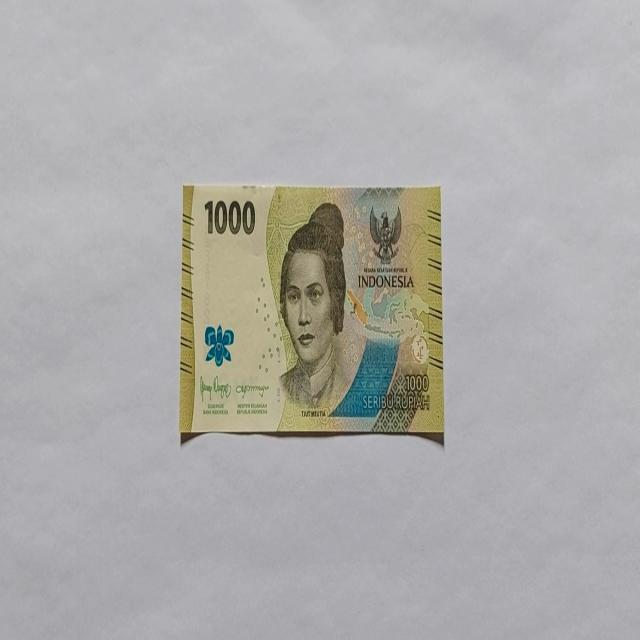seribu rupiah kertas: (178, 182, 444, 442)
